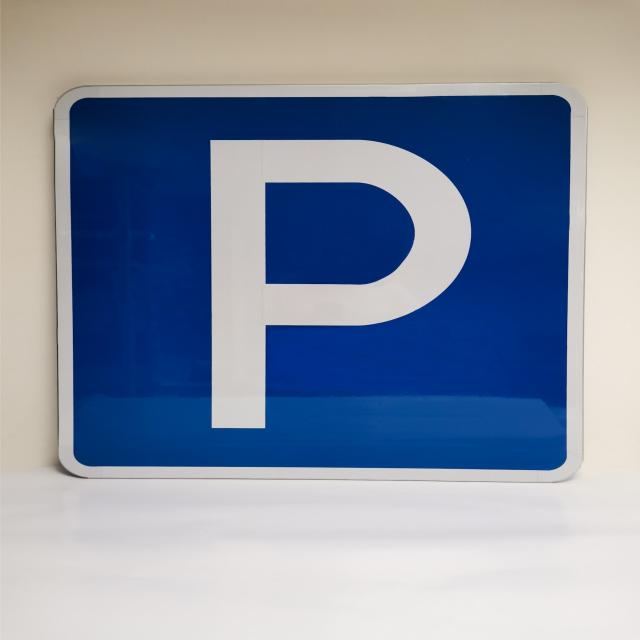parking: (44, 78, 595, 489)
